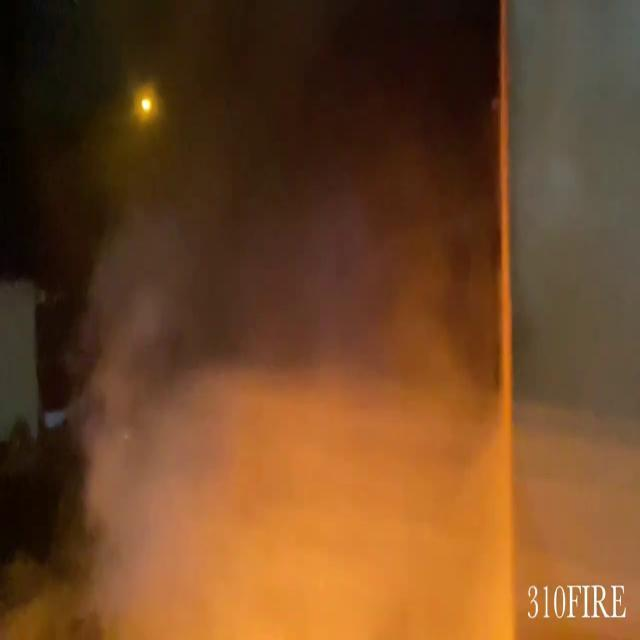Smoke: (21, 8, 516, 632)
